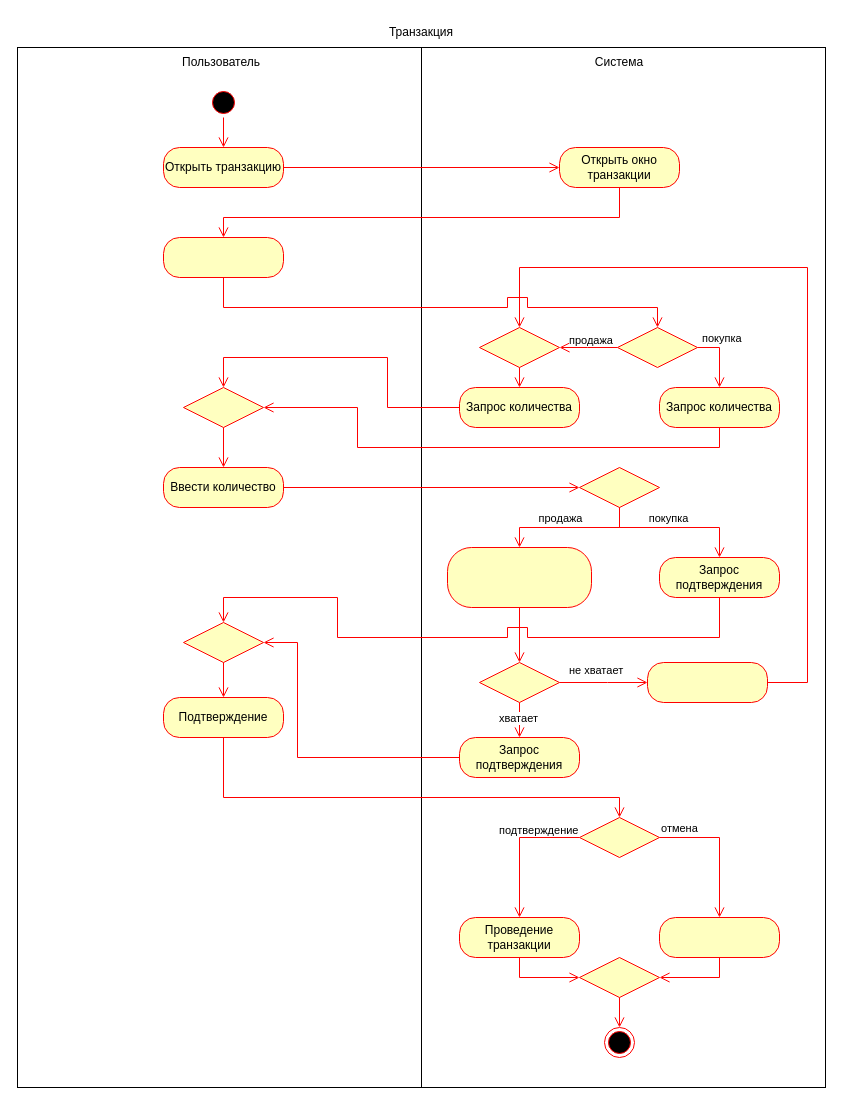
The diagram is 843 pixels wide and 1106 high, and some of its shapes have lost their labels. The centre of each missing label's shape, as x and y in pixels:
Выбрать действие: point (223, 257)
Отмена транзакции: point (719, 937)
Ошибка нехватки: point (707, 682)
Проверить наличие необходимого количества в портфеле: point (519, 577)
